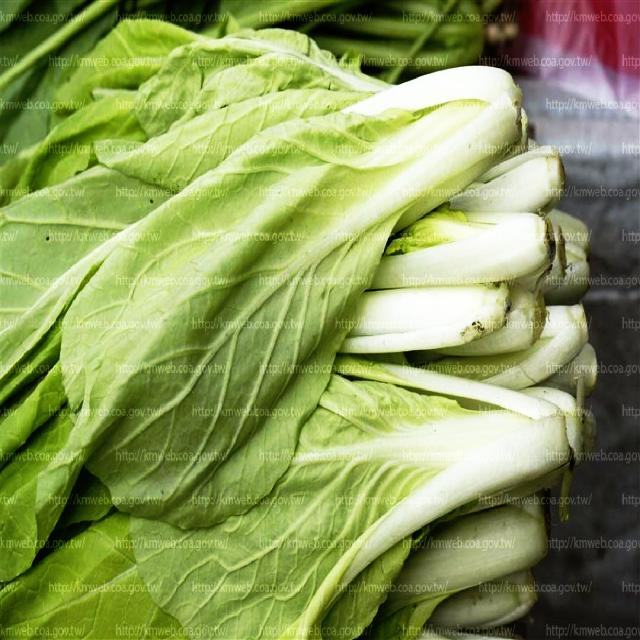chinese_cabbage: (18, 42, 561, 628)
